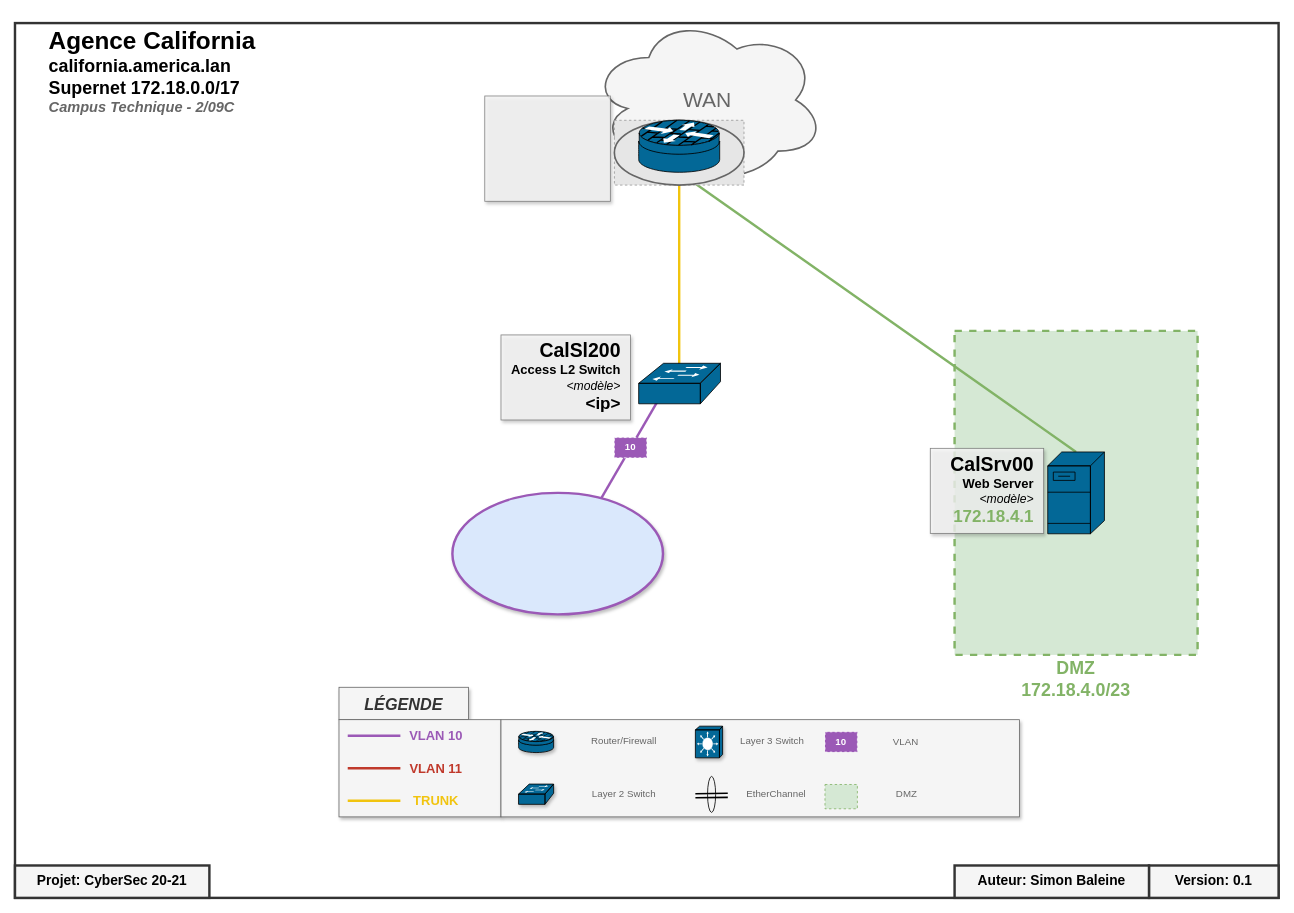
Image size: 1294x913. Some labels were removed from this diagram. Grey dashed boxes stand in for pictures. Here are the shapes that lost their labels. From the top down, the centre of each, then its label:
At point 548,149: "CalRot00 Router/Firewall <modèle> 172.18.1.254 172.18.5.254".
At point 558,554: "VLAN 10 172.18.0.0/23".
